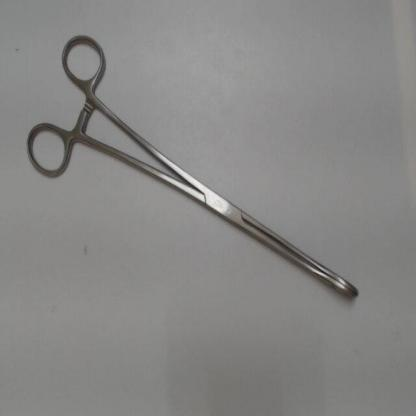Sponge Forceps: (17, 21, 364, 309)
